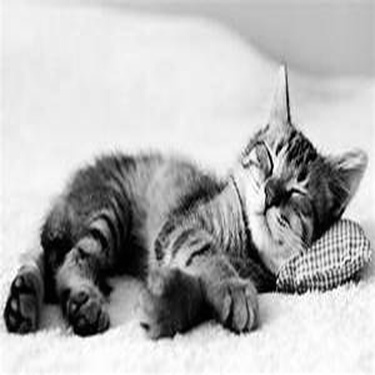cat: (1, 61, 369, 340)
